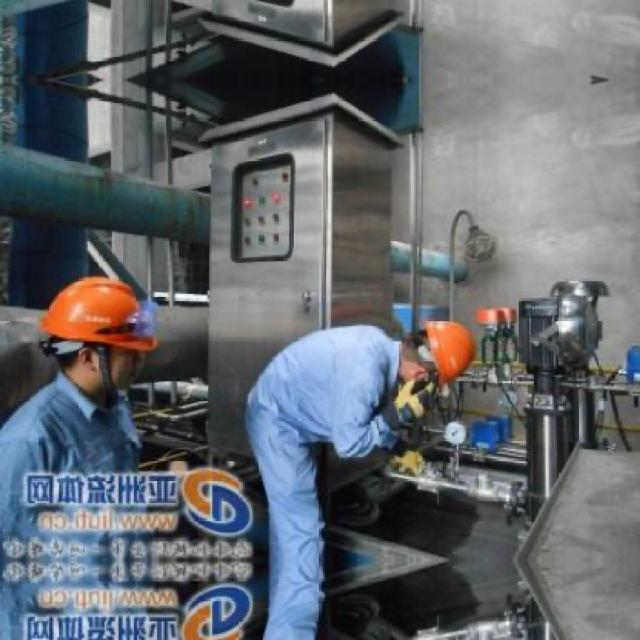helmet: (31, 271, 158, 395), (397, 320, 475, 386)
